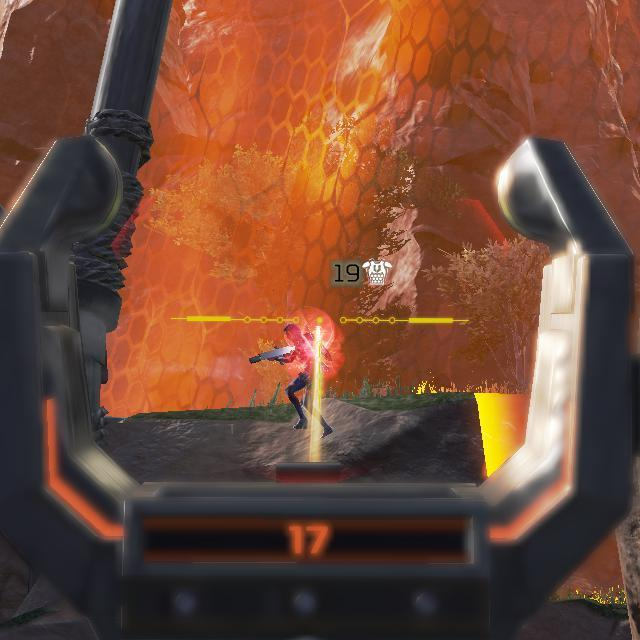avatar: (279, 322, 335, 442)
object: (283, 307, 345, 383)
